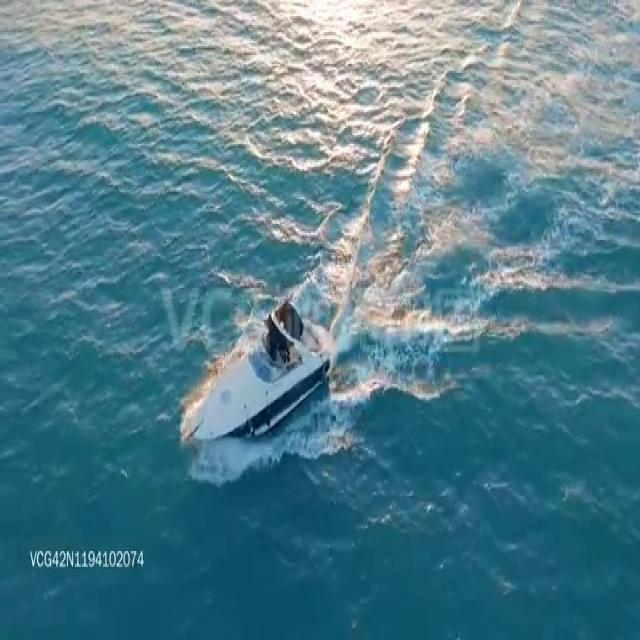houseboat: (175, 287, 331, 451)
